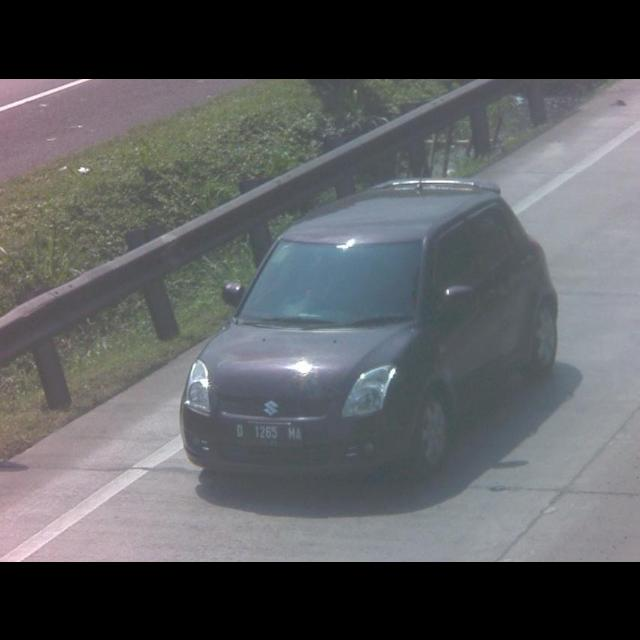plate: (233, 420, 303, 448)
